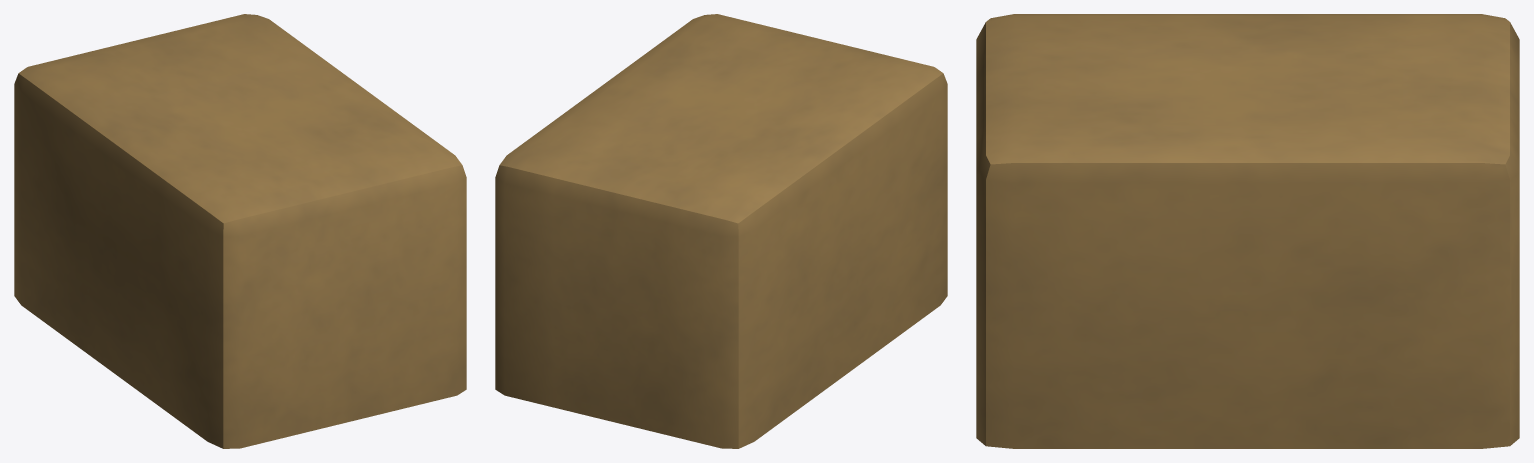
File: PlatformTall Height EXT Top.fbx
3 views of the same model, side by side, from view 1: azimuth 30°, elevation 25°; view 2: azimuth 150°, elevation 25°; view 3: azimuth 270°, elevation 25° (orthographic). The views are drawn at different scales.
Visible parts, largest first — view 1: PlatformTall Height EXT Top; view 2: PlatformTall Height EXT Top; view 3: PlatformTall Height EXT Top.
Part boxes in pixels (x1,y1,x2,y2): PlatformTall Height EXT Top: [14, 14, 466, 448]; PlatformTall Height EXT Top: [495, 14, 947, 448]; PlatformTall Height EXT Top: [976, 14, 1519, 448].
Size of the model in its own units: 25 by 37.19 by 21.84.
